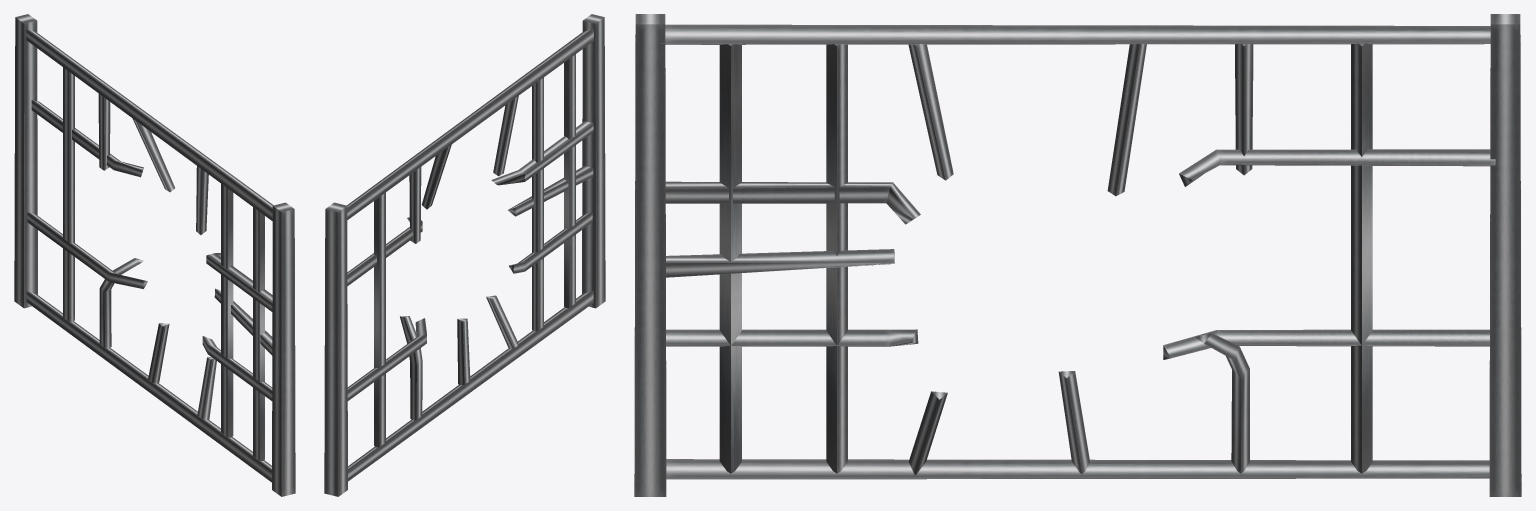
Rendered from fence_fix.FBX.
The picture shows the model from 3 angles, left to right: view 1: azimuth 30°, elevation 25°; view 2: azimuth 150°, elevation 25°; view 3: azimuth 270°, elevation 25°; orthographic projection. The views are drawn at different scales.
Visible parts, largest first — view 1: fence; view 2: fence; view 3: fence.
Part boxes in pixels (x1,y1,x2,y2): fence: (14,14,295,496); fence: (324,14,605,496); fence: (634,14,1521,496).
Bounding box in the file's own units: 99.59 × 696 × 1185.
